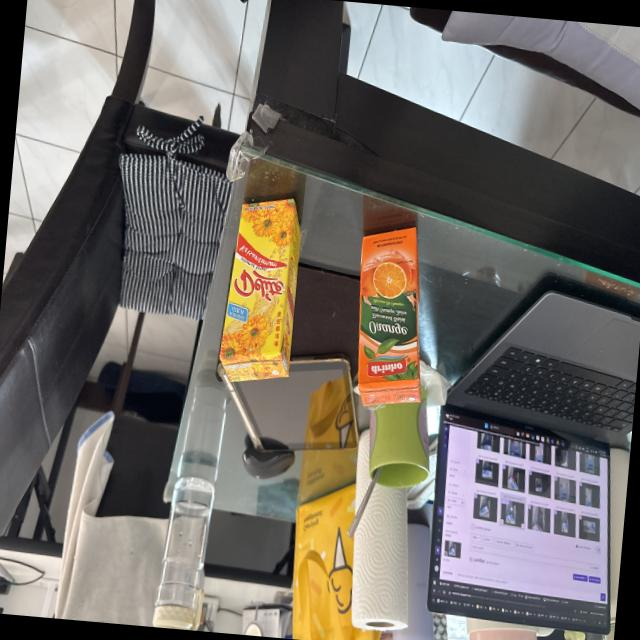drink_carton: (209, 188, 309, 397), (344, 212, 438, 416)
